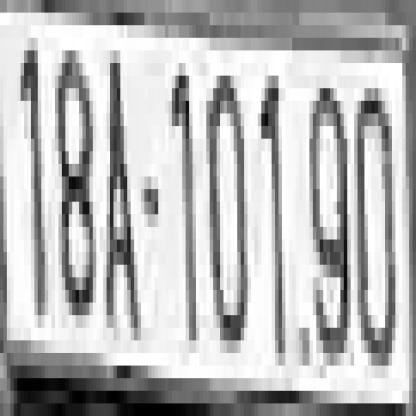0: (351, 88, 395, 353), (206, 89, 244, 340)
1: (17, 25, 48, 315), (254, 76, 286, 353), (172, 63, 196, 328)
8: (58, 51, 96, 302)
9: (306, 89, 347, 340)
A: (107, 51, 141, 315)
